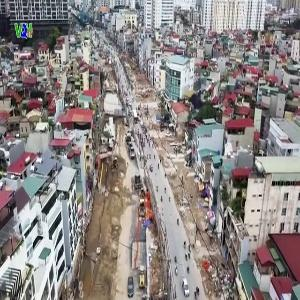drone: (174, 73, 226, 125)
